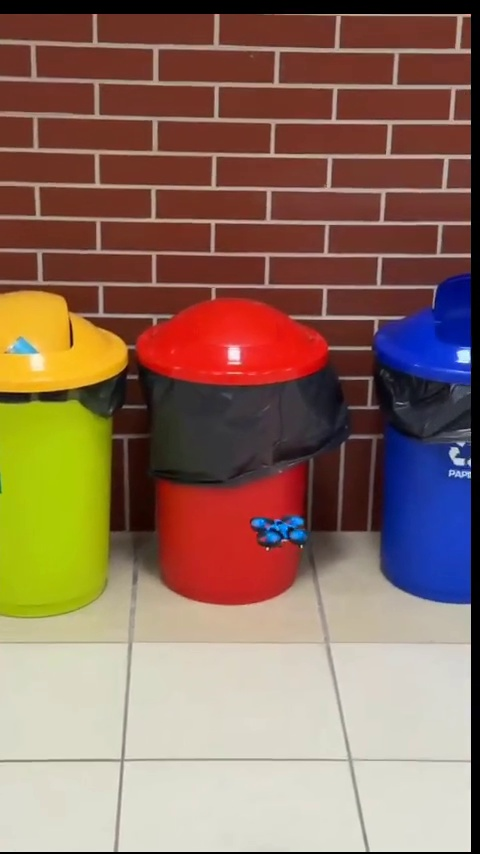drone: (251, 516, 311, 555)
